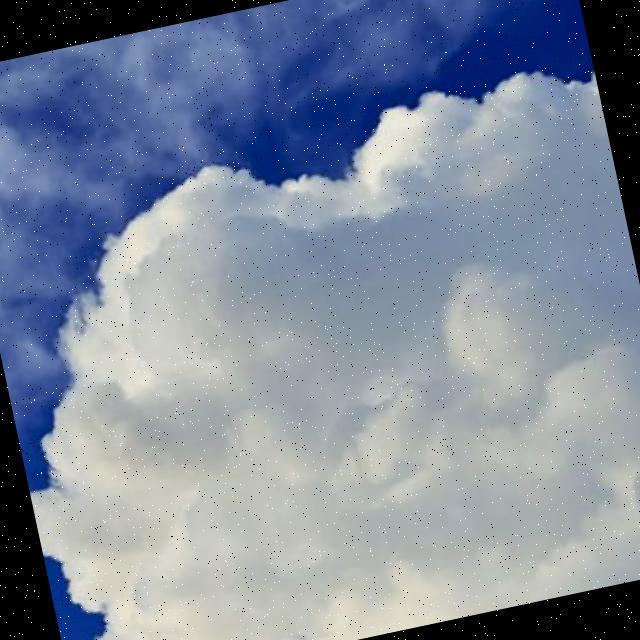Cu: (1, 31, 640, 640)
